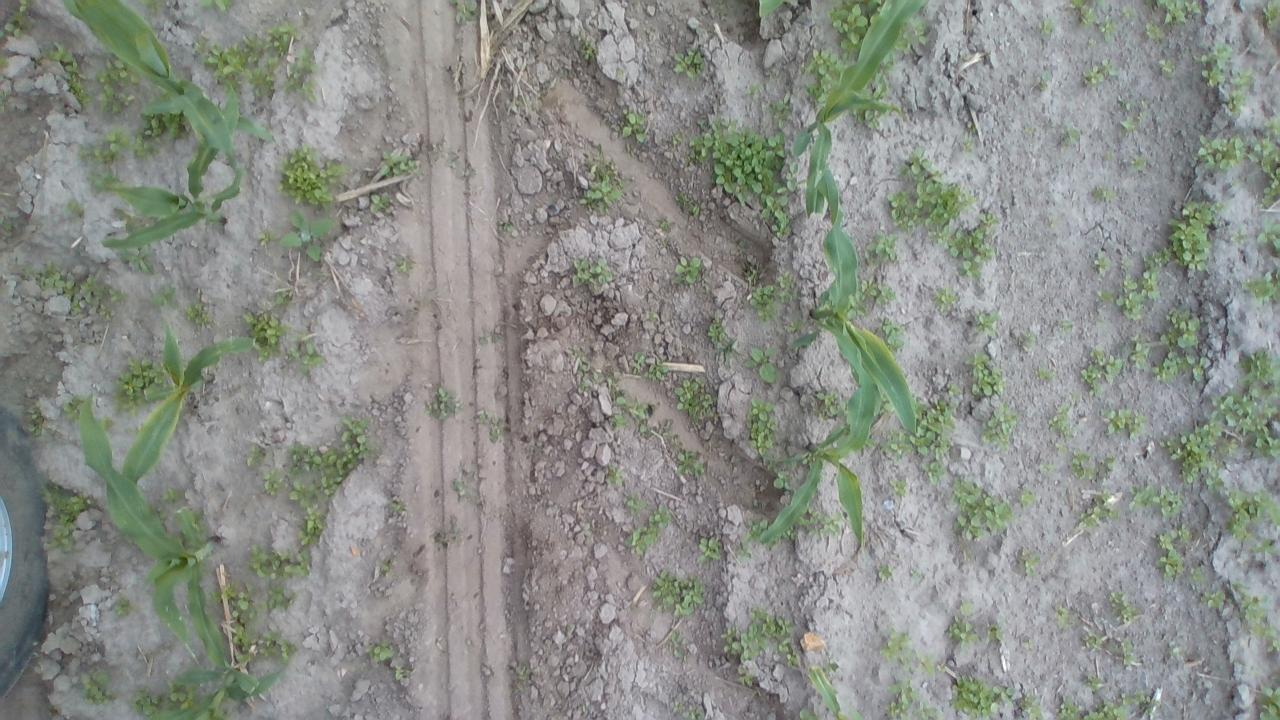Maize: (65, 0, 276, 203), (80, 386, 222, 654), (785, 212, 919, 434), (794, 0, 926, 223), (761, 324, 878, 558), (95, 84, 244, 251), (124, 329, 254, 484), (159, 664, 281, 720), (809, 668, 844, 718), (756, 0, 784, 15)
Weeds: (1170, 342, 1280, 485), (687, 114, 799, 244), (292, 414, 372, 551), (187, 24, 320, 105), (884, 144, 980, 246), (722, 605, 802, 684), (1197, 131, 1280, 204), (219, 584, 294, 664), (26, 260, 127, 318), (951, 472, 1013, 543), (248, 547, 311, 615), (911, 391, 955, 488), (279, 144, 345, 208), (1166, 204, 1222, 278), (1157, 306, 1207, 380), (1117, 251, 1168, 322), (42, 478, 86, 558), (1220, 486, 1278, 544), (114, 348, 162, 413), (948, 667, 1008, 718), (279, 209, 335, 262), (651, 568, 710, 618), (45, 42, 88, 108), (80, 131, 152, 170), (1050, 694, 1152, 720), (1240, 588, 1280, 654), (578, 156, 624, 213), (876, 677, 938, 718), (674, 375, 719, 431), (801, 46, 844, 103), (98, 58, 140, 112), (1152, 522, 1194, 576), (244, 307, 286, 360), (744, 397, 780, 458), (1081, 347, 1125, 396), (637, 404, 680, 452), (624, 508, 670, 552), (827, 0, 864, 52), (963, 354, 1003, 400), (1125, 481, 1179, 513), (980, 406, 1019, 450), (362, 148, 416, 177), (1242, 266, 1280, 307), (1226, 68, 1254, 121), (1102, 408, 1146, 441), (740, 346, 778, 384), (940, 604, 978, 642), (573, 258, 614, 290), (802, 509, 844, 540), (1076, 493, 1114, 527), (286, 332, 323, 366), (428, 386, 462, 422), (668, 44, 704, 78), (572, 353, 606, 389), (1050, 399, 1078, 442), (1200, 44, 1230, 84), (0, 1, 34, 36), (859, 273, 896, 305), (671, 252, 702, 290), (144, 114, 186, 142), (83, 670, 116, 704), (866, 226, 899, 259), (631, 351, 668, 380), (117, 248, 158, 274), (1151, 0, 1200, 21), (746, 285, 773, 322), (696, 532, 725, 566), (1012, 544, 1042, 576), (1256, 212, 1280, 252), (676, 452, 708, 482), (620, 105, 646, 141), (1104, 586, 1132, 618), (1127, 333, 1151, 370), (880, 632, 909, 662), (1256, 684, 1280, 720), (969, 307, 1002, 333), (736, 249, 762, 282), (881, 314, 907, 347), (1068, 446, 1091, 483), (898, 19, 926, 49), (882, 428, 912, 456), (608, 387, 632, 422), (620, 487, 648, 517), (776, 270, 800, 303), (185, 298, 211, 328), (1080, 62, 1112, 86), (241, 442, 264, 475), (168, 684, 195, 712), (261, 470, 288, 498), (450, 0, 479, 26), (1061, 0, 1093, 23), (133, 690, 161, 716), (1116, 95, 1136, 131), (814, 390, 838, 420), (934, 288, 963, 312), (148, 284, 176, 308), (1096, 453, 1118, 483), (1019, 688, 1040, 718), (368, 192, 394, 216), (704, 318, 726, 345), (852, 108, 884, 126), (486, 412, 504, 444), (510, 658, 532, 684), (773, 95, 793, 123), (670, 630, 687, 659), (674, 190, 696, 212), (1051, 602, 1071, 626), (450, 470, 470, 494), (29, 406, 45, 436), (890, 474, 909, 499), (1064, 128, 1082, 154), (198, 0, 240, 11), (1012, 328, 1033, 350), (607, 459, 624, 485), (1094, 254, 1114, 276), (772, 466, 792, 488), (1204, 586, 1224, 608), (1121, 638, 1137, 665), (0, 44, 15, 72), (1094, 286, 1114, 307), (799, 702, 822, 720), (1088, 182, 1115, 197), (734, 540, 754, 560), (747, 518, 769, 536), (1230, 228, 1252, 246), (1157, 52, 1175, 74), (670, 703, 696, 718), (64, 398, 83, 418), (1264, 0, 1280, 23), (395, 254, 414, 273), (1035, 366, 1055, 384), (1016, 486, 1036, 504), (374, 642, 392, 662), (1098, 16, 1114, 38), (580, 38, 596, 60), (391, 662, 410, 680), (656, 218, 673, 238), (1052, 318, 1076, 332), (872, 75, 887, 97), (1262, 116, 1280, 134), (1144, 24, 1164, 40), (1082, 630, 1102, 646), (260, 227, 276, 247), (849, 297, 864, 318), (1036, 72, 1052, 90), (875, 564, 894, 579), (983, 626, 999, 643), (669, 130, 683, 149), (1082, 674, 1104, 686), (140, 0, 164, 11), (1038, 16, 1054, 32), (784, 318, 800, 334), (116, 600, 132, 616), (498, 219, 514, 234), (388, 496, 404, 511), (1251, 540, 1271, 552), (165, 488, 182, 502), (920, 652, 934, 669), (274, 287, 292, 300), (98, 415, 115, 428), (1099, 152, 1119, 163), (1128, 156, 1146, 168), (945, 380, 960, 394), (1050, 442, 1064, 456), (748, 79, 762, 93), (644, 310, 658, 324), (1046, 216, 1058, 231), (1116, 8, 1130, 20), (1038, 461, 1054, 471), (1022, 126, 1034, 138), (1194, 571, 1206, 583), (66, 196, 73, 216), (907, 569, 921, 577)
